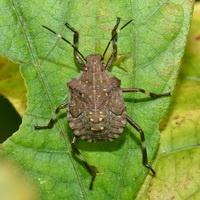insect: (35, 17, 170, 189)
